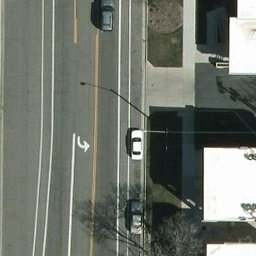car: (99, 1, 115, 32), (131, 129, 146, 160), (129, 202, 142, 237)
